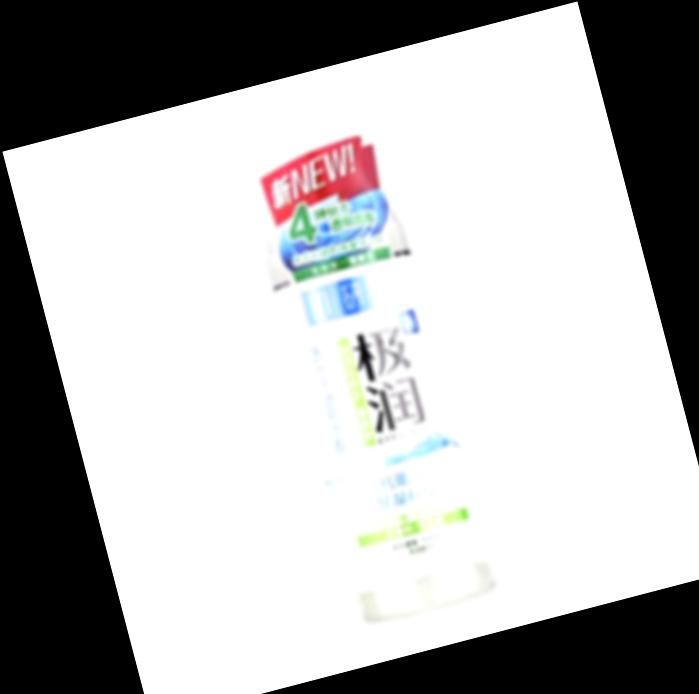cosmetic: (233, 106, 493, 619)
